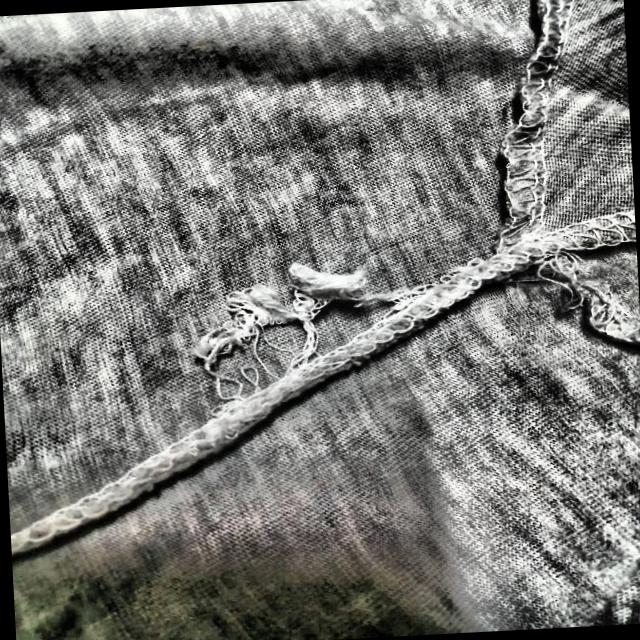gray stitch: (94, 198, 491, 472)
